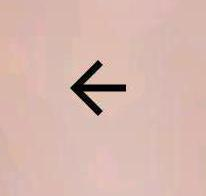ImgButton: (1, 1, 205, 195)
